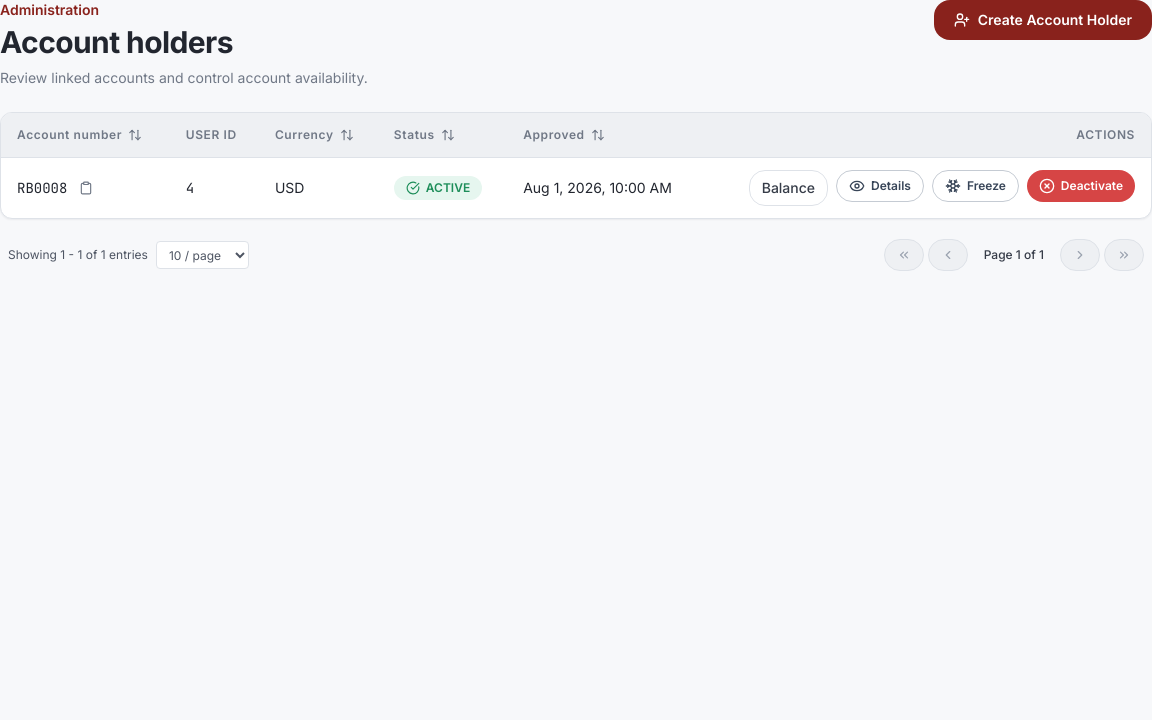
Test: AccountHoldersPage › loads account and owner details
Click the button "Details" at (880, 186), box [836,170,924,202]
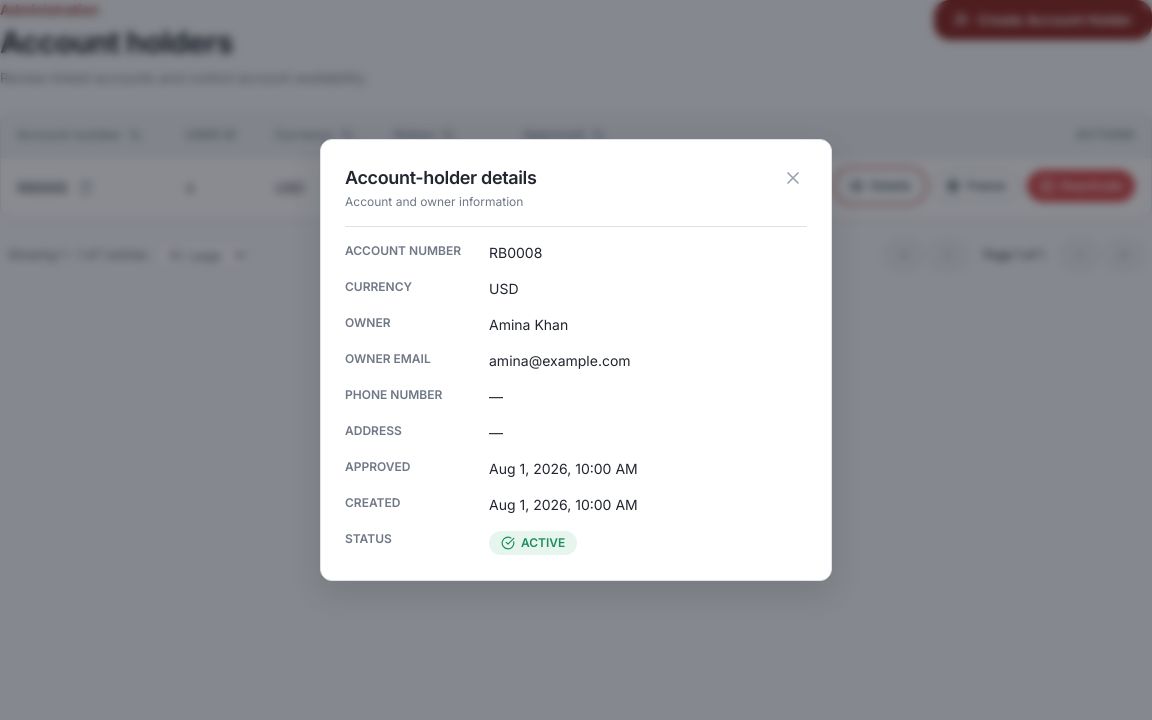
Result: the text "Amina Khan" is shown at [489,316,568,333]
Result: the text "amina@example.com" is shown at [489,352,631,369]
